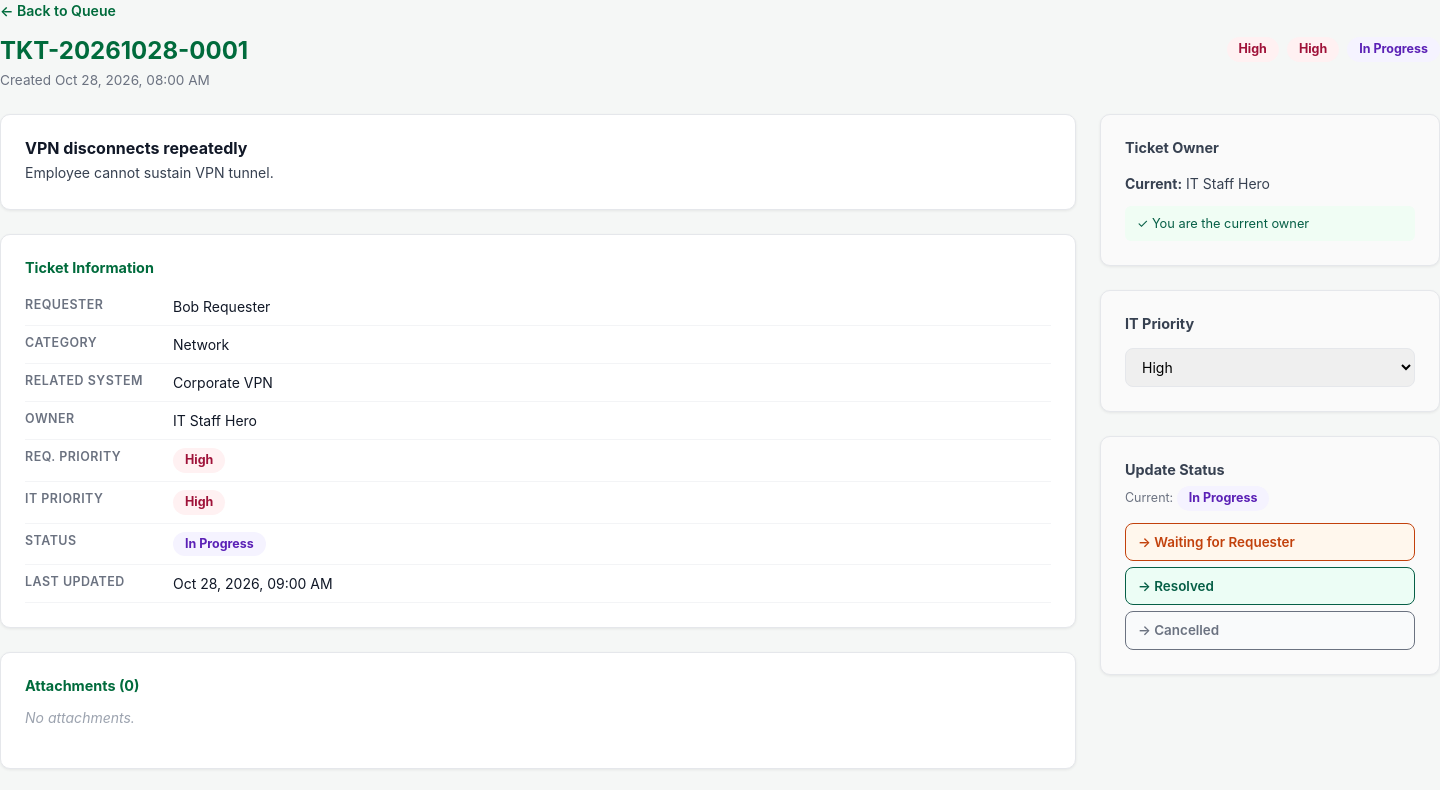
Test: Ticket Workflow & Resolution Gate UI — Component Tests (Lab 4) › UI-WF-01: Resolution Gate UI alert when resolving without action › clicking "+ Add Action Taken Now" opens Add Action Taken dialog and dismisses alert
The image size is (1440, 790).
Expected: the heading "TKT-20261028-0001" is shown, [0,37,248,66]
# Trigger resolution gate alert
Step 1. Click the button "→ Resolved" → (1184, 586), box [1125,567,1415,605]
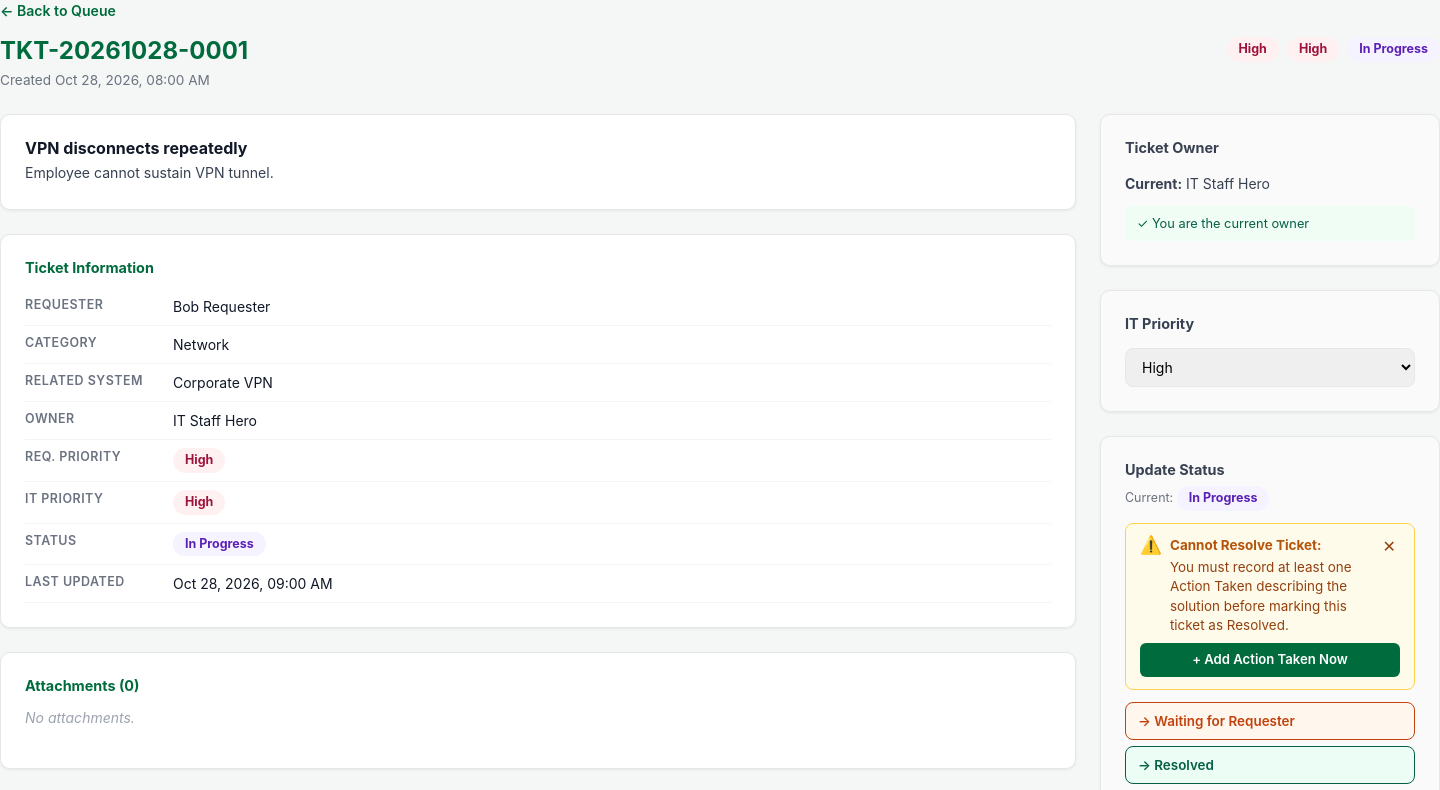
Now the message is shown, box [1125,523,1415,690]
# Click shortcut button
Step 2. Click the button "+ Add Action Taken Now" → (1270, 660), box [1140,644,1400,676]
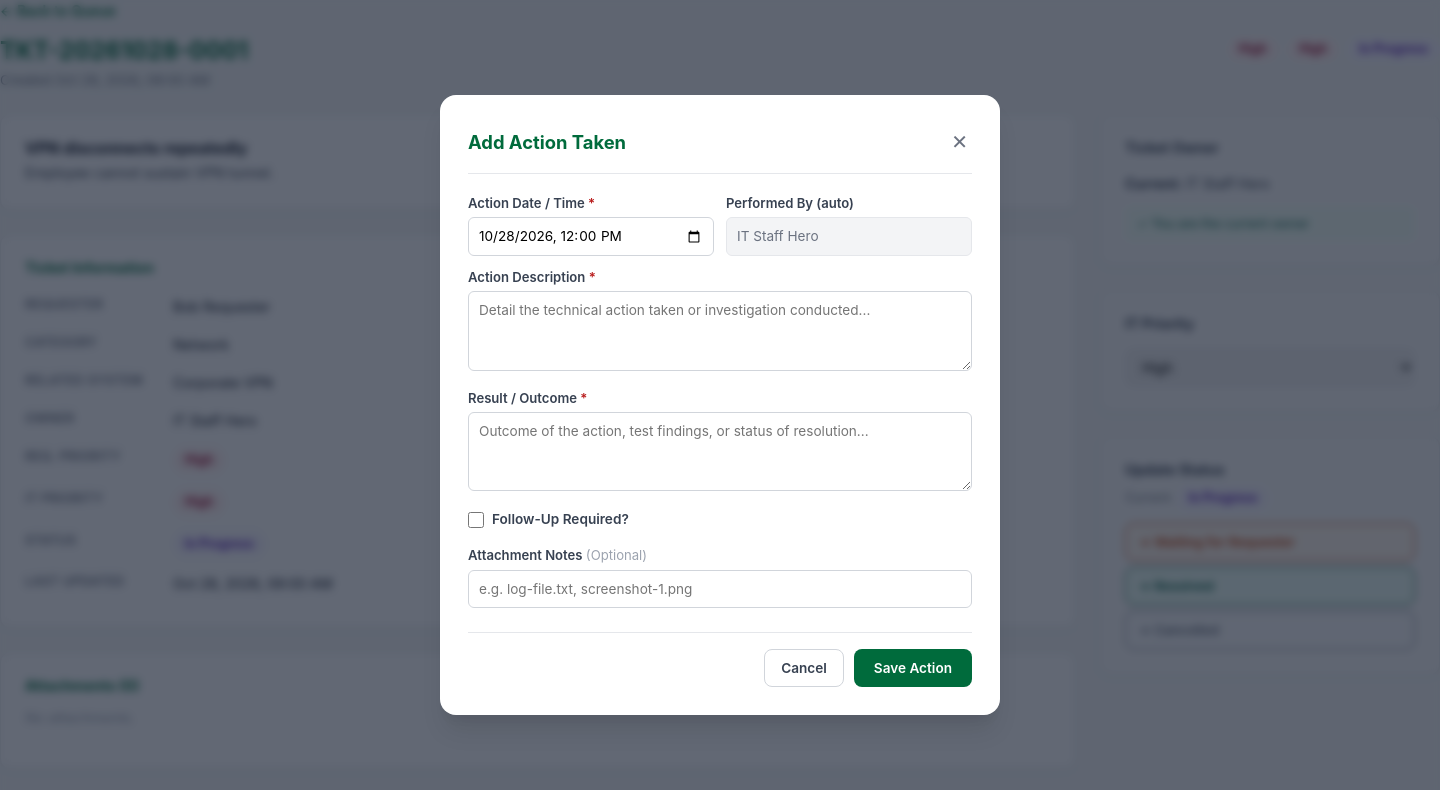
Now the heading "Add Action Taken" is shown, box [468,131,626,153]
Now the message is gone
Now the dialog is shown, box [440,95,1000,715]
